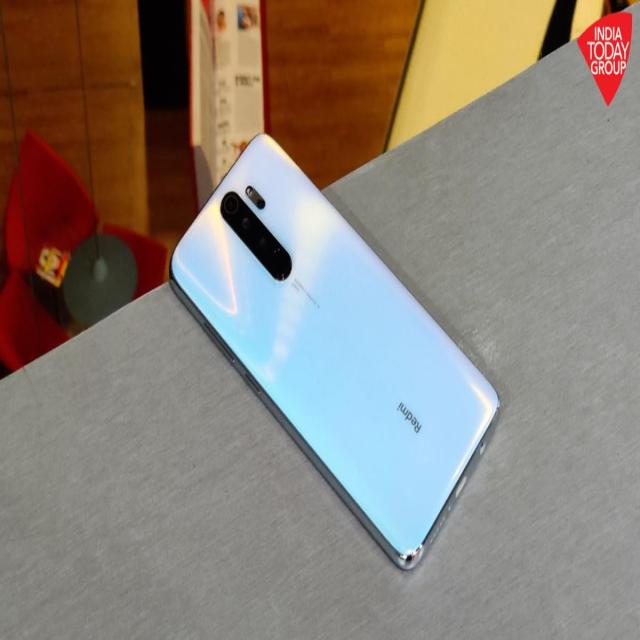Red Mi Note 8 Pro: (169, 136, 502, 574)
